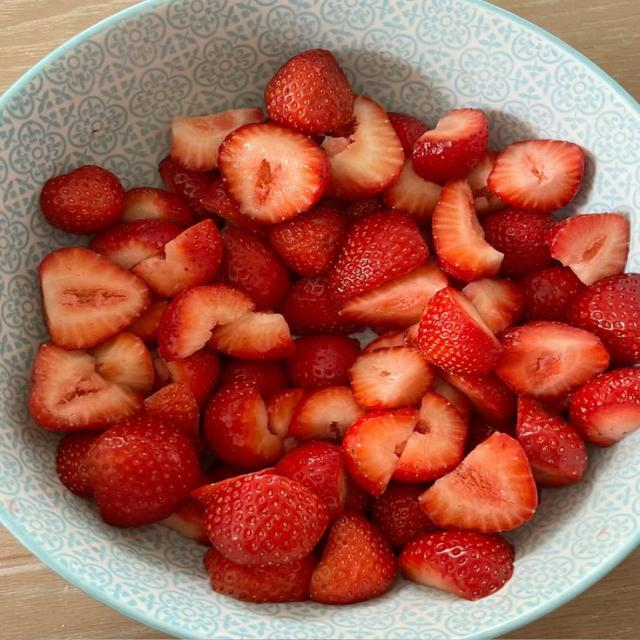strawberry sliced: (87, 414, 201, 527), (420, 433, 538, 532), (205, 471, 329, 564), (218, 123, 330, 223), (40, 247, 150, 348), (328, 211, 428, 301), (496, 322, 609, 398), (323, 97, 404, 200), (399, 532, 513, 600), (310, 514, 397, 603), (265, 49, 353, 134), (342, 259, 448, 328), (418, 287, 503, 373), (159, 285, 254, 361), (432, 180, 503, 281), (132, 220, 222, 297), (487, 140, 584, 211), (203, 383, 283, 469), (392, 392, 467, 482), (566, 274, 639, 365), (343, 409, 418, 497), (517, 397, 587, 486), (203, 548, 316, 603), (547, 214, 630, 285), (171, 108, 263, 171), (40, 166, 124, 234), (411, 109, 488, 183), (269, 205, 346, 277), (570, 367, 639, 447), (223, 227, 289, 310), (276, 442, 346, 519), (350, 346, 432, 409), (482, 208, 556, 277), (277, 277, 362, 335), (89, 220, 182, 269), (371, 482, 436, 550), (88, 332, 154, 396), (208, 312, 295, 360), (439, 370, 517, 423), (289, 387, 364, 441), (286, 336, 360, 388), (154, 347, 220, 405), (159, 156, 217, 219), (382, 160, 442, 220), (201, 178, 265, 234), (145, 383, 201, 447), (520, 267, 586, 321), (463, 279, 524, 333), (122, 187, 195, 227), (56, 431, 100, 497), (221, 358, 288, 398), (467, 151, 506, 216), (159, 499, 209, 545), (432, 371, 472, 422), (266, 389, 308, 437), (465, 415, 516, 454), (127, 298, 168, 345), (388, 112, 429, 158), (344, 196, 383, 225), (344, 475, 371, 516), (364, 331, 406, 352), (405, 322, 419, 346)
